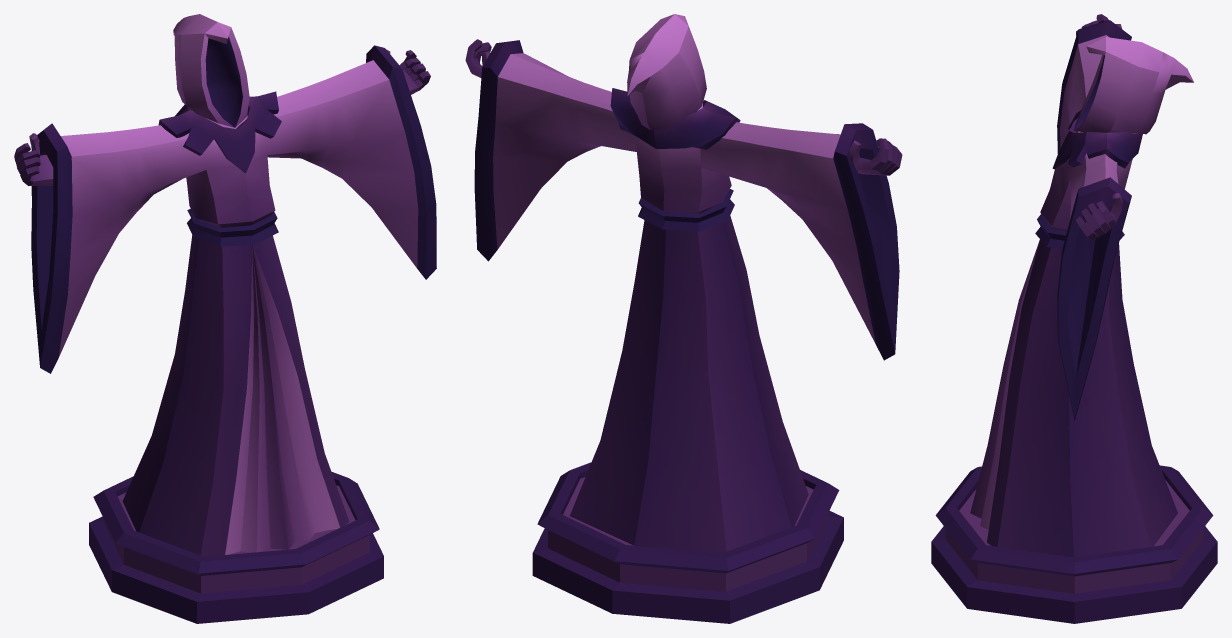
Rendered from Statue 01.fbx.
The picture shows the model from 3 angles, left to right: view 1: azimuth 30°, elevation 25°; view 2: azimuth 150°, elevation 25°; view 3: azimuth 270°, elevation 25°; orthographic projection. The views are drawn at different scales.
Visible parts, largest first — view 1: Statue 01.001; view 2: Statue 01.001; view 3: Statue 01.001.
Boxes of the visible parts, x1,y1,x2,y2 form: Statue 01.001: [14, 14, 436, 623]; Statue 01.001: [465, 14, 902, 623]; Statue 01.001: [931, 14, 1217, 623].
Size of the model in its own units: 285 by 353 by 174.
